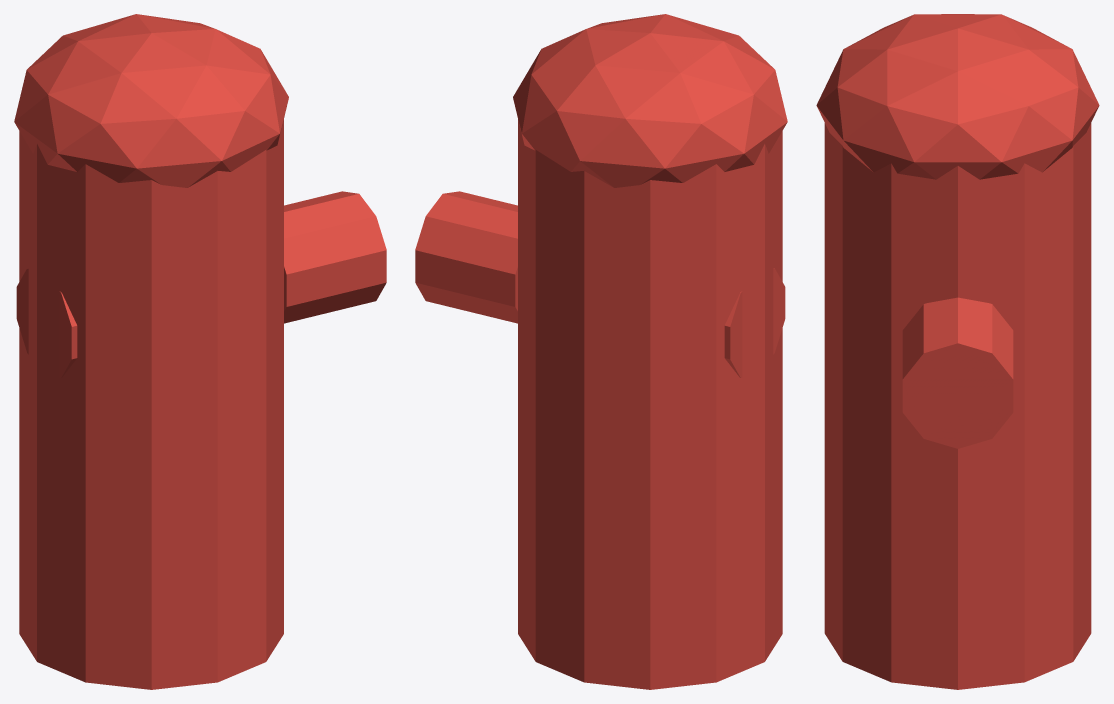
Rendered from fire_hydrant.glb.
The picture shows the model from 3 angles, left to right: view 1: azimuth 30°, elevation 25°; view 2: azimuth 150°, elevation 25°; view 3: azimuth 270°, elevation 25°; orthographic projection.
Parts seen in each view (by area): view 1: fire_hydrant; view 2: fire_hydrant; view 3: fire_hydrant.
Boxes of the visible parts, bbox=[...] form: fire_hydrant: bbox=[14, 14, 386, 689]; fire_hydrant: bbox=[415, 14, 787, 689]; fire_hydrant: bbox=[816, 14, 1099, 689].
Bounding box in the file's own units: 0.4517 × 0.802 × 0.34.
